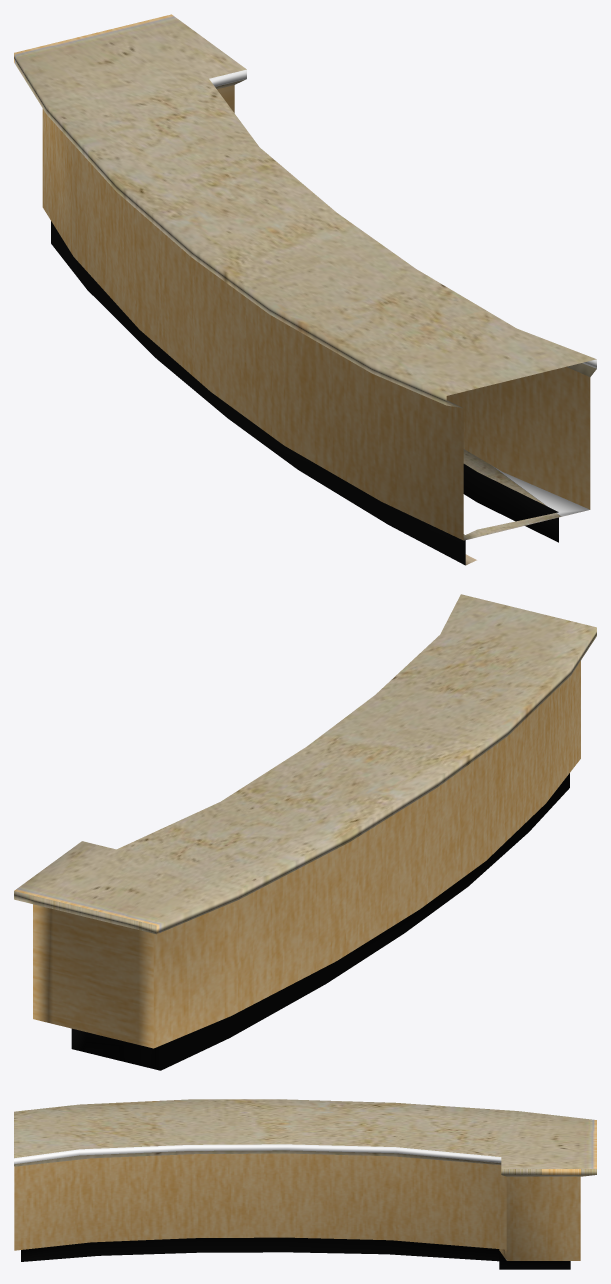
The model's file is nursing_station_desk.fbx.
3 renders of one model, top to bottom at view 1: azimuth 30°, elevation 25°; view 2: azimuth 150°, elevation 25°; view 3: azimuth 270°, elevation 25°, orthographic. The views are drawn at different scales.
Visible parts, largest first — view 1: desk; view 2: desk; view 3: desk.
Boxes of the visible parts, bbox=[...] form: desk: bbox=[14, 14, 596, 565]; desk: bbox=[14, 594, 596, 1070]; desk: bbox=[14, 1099, 596, 1269].
Size of the model in its own units: 0.7713 by 0.5902 by 2.74.
Materials: 2 (1 with a texture image).
